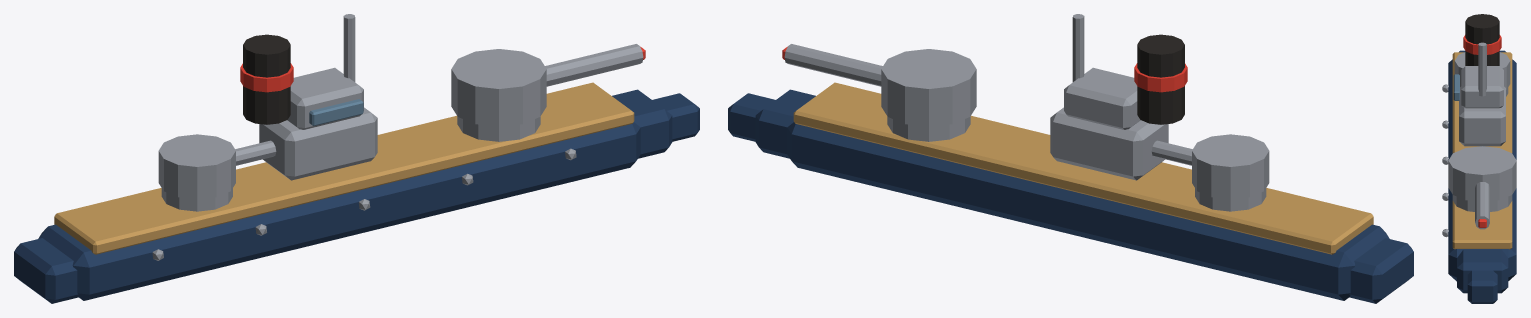
Rendered from warships.glb.
The picture shows the model from 3 angles, left to right: view 1: azimuth 30°, elevation 25°; view 2: azimuth 150°, elevation 25°; view 3: azimuth 270°, elevation 25°; orthographic projection. The views are drawn at different scales.
Visible parts, largest first — view 1: warships-navy-hull, warships-teak-deck, warships-fwd-gun-house, warships-island, warships-aft-gun-house, warships-funnel, warships-stern, warships-bridge, warships-bow-a, warships-fwd-barrel, warships-bow-b, warships-fwd-turret-ring (+5 smaller); view 2: warships-navy-hull, warships-teak-deck, warships-fwd-gun-house, warships-island, warships-aft-gun-house, warships-bridge, warships-funnel, warships-stern, warships-bow-a, warships-fwd-barrel, warships-bow-b, warships-fwd-turret-ring (+4 smaller); view 3: warships-teak-deck, warships-fwd-gun-house, warships-navy-hull, warships-island, warships-bridge, warships-bow-a, warships-funnel, warships-bow-b, warships-fwd-barrel, warships-aft-gun-house, warships-fwd-turret-ring, warships-mast (+3 smaller).
Part boxes in pixels (x1,y1,x2,y2): warships-navy-hull: (38,122,640,300); warships-teak-deck: (54,82,634,254); warships-fwd-gun-house: (451,49,546,126); warships-island: (259,107,377,180); warships-aft-gun-house: (158,134,235,199); warships-funnel: (243,34,290,124); warships-stern: (14,238,78,303); warships-bridge: (287,67,363,129); warships-bow-a: (612,89,672,158); warships-fwd-barrel: (545,44,643,86); warships-bow-b: (652,93,699,141); warships-fwd-turret-ring: (457,116,540,141); warships-navy-hull: (787,122,1389,300); warships-teak-deck: (793,82,1373,254); warships-fwd-gun-house: (881,49,976,126); warships-island: (1050,107,1168,180); warships-aft-gun-house: (1192,134,1269,199); warships-bridge: (1064,67,1140,129); warships-funnel: (1137,34,1184,124); warships-stern: (1349,238,1413,303); warships-bow-a: (755,89,815,158); warships-fwd-barrel: (784,44,882,86); warships-bow-b: (728,93,775,141); warships-fwd-turret-ring: (887,116,970,141); warships-teak-deck: (1452,52,1512,249); warships-fwd-gun-house: (1448,146,1516,201); warships-navy-hull: (1448,59,1516,281); warships-island: (1459,86,1505,146); warships-bridge: (1461,66,1503,108); warships-bow-a: (1457,249,1508,293); warships-funnel: (1465,14,1499,65); warships-bow-b: (1467,270,1497,303); warships-fwd-barrel: (1475,182,1489,229); warships-aft-gun-house: (1454,52,1510,89); warships-fwd-turret-ring: (1452,195,1512,211); warships-mast: (1478,42,1486,96).
Size of the model in its own units: 3.43 by 1 by 0.465.
